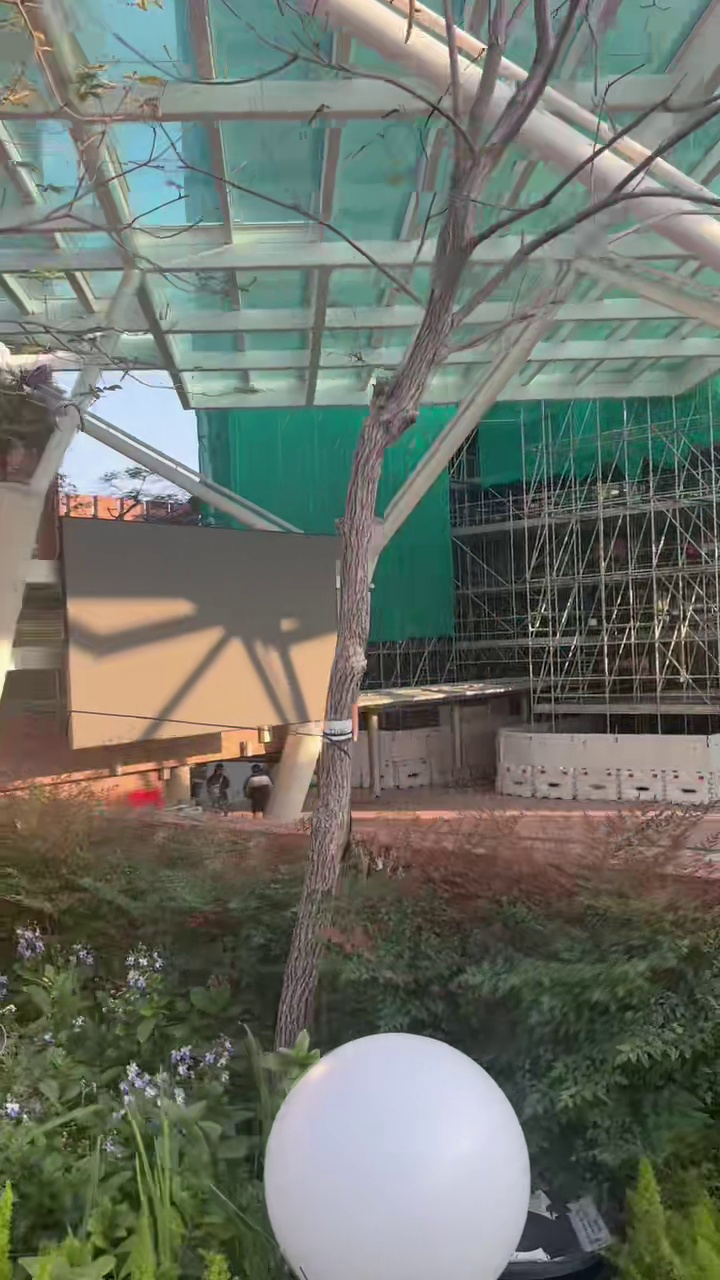Tabebuia chrysantha: (276, 0, 691, 1047)
